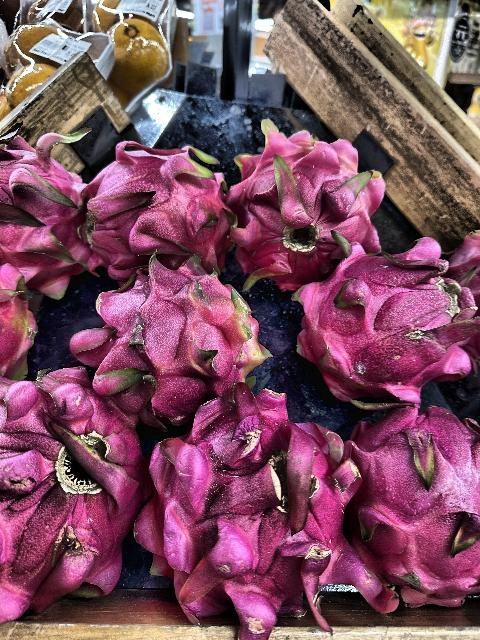buah-naga-matang: (144, 368, 366, 634), (8, 359, 152, 629), (278, 215, 478, 397), (342, 390, 480, 616), (220, 112, 388, 268), (78, 264, 257, 406), (65, 144, 237, 262), (0, 121, 84, 293)
